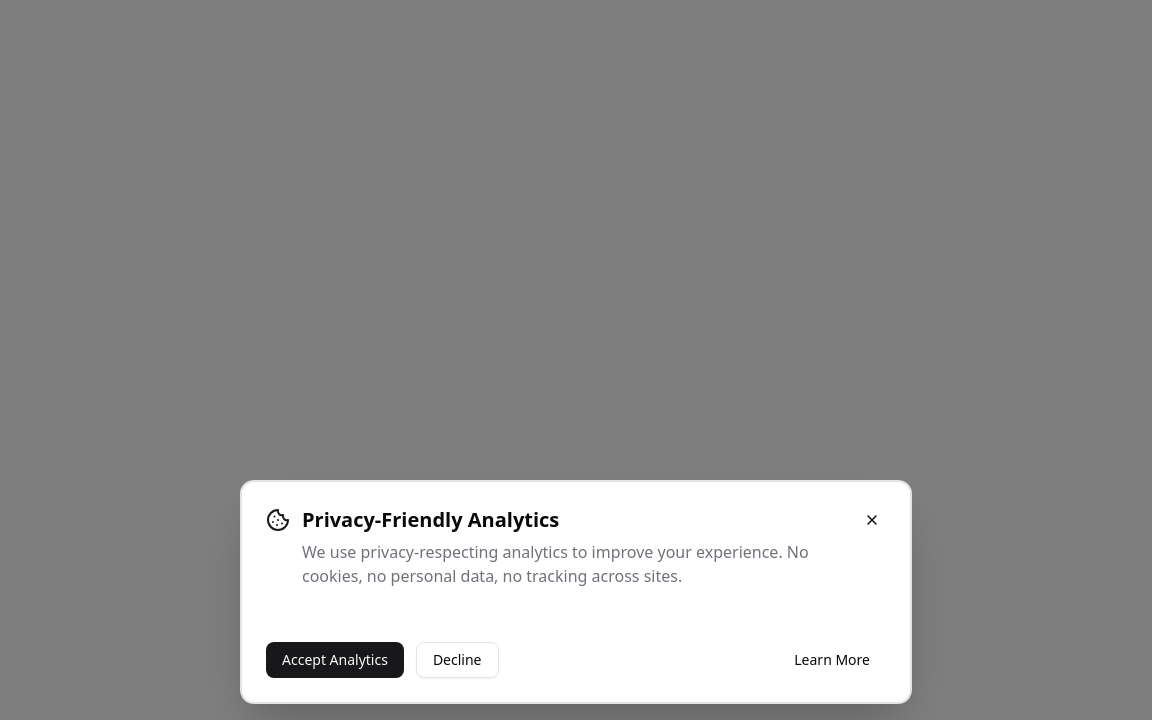
Test case: ConsentBanner › Details Toggle › should show details when learn more is clicked
Expected: the dialog is shown, [240,480,912,704]
Click the button with aria-label "show privacy details" at (832, 660), box [778,642,886,678]
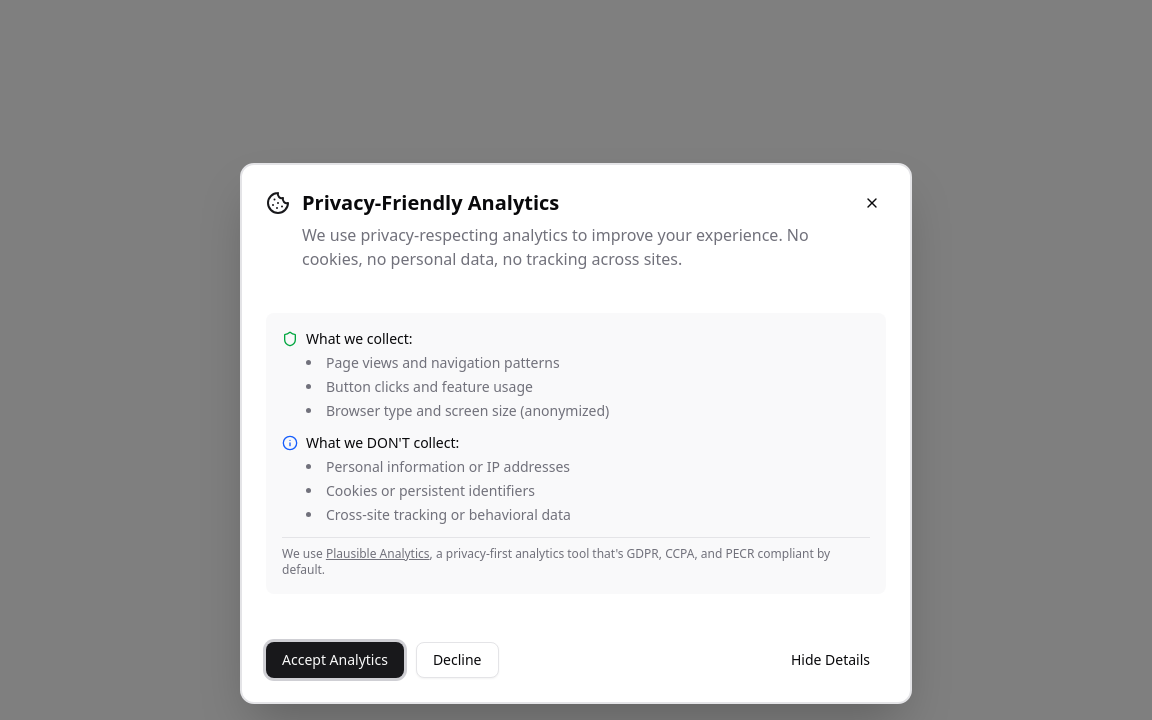
Expected: the text "What we collect:" is shown, [306,329,413,348]
Expected: the text "What we DON'T collect:" is shown, [306,433,459,452]
Expected: the element named "privacy details" is shown, [266,313,886,594]
